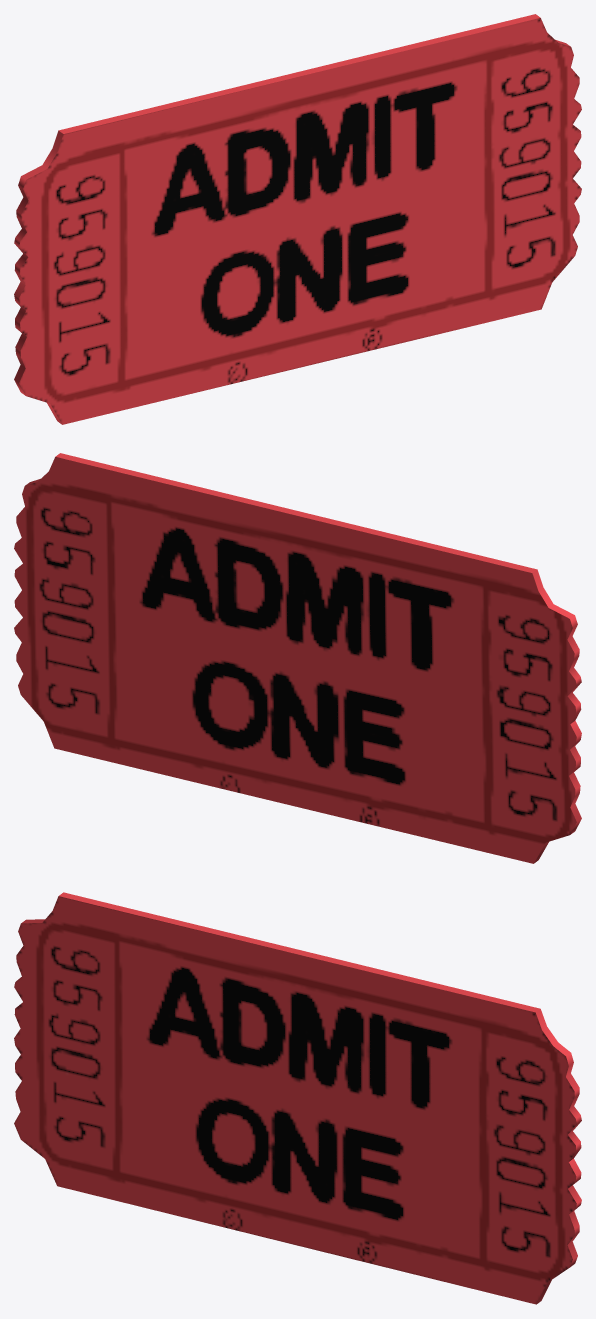
The model's file is Ticket_With_Texture.fbx.
3 renders of one model, top to bottom at view 1: azimuth 30°, elevation 25°; view 2: azimuth 150°, elevation 25°; view 3: azimuth 330°, elevation 25°, orthographic.
Visible parts, largest first — view 1: pCube3; view 2: pCube3; view 3: pCube3.
Part boxes in pixels (x1=…): pCube3: x1=14, y1=14, x2=581, y2=424; pCube3: x1=14, y1=453, x2=581, y2=863; pCube3: x1=14, y1=892, x2=581, y2=1304.
Bounding box in the file's own units: 8.05 × 3.99 × 0.1262.
1 material, 1 textured.
